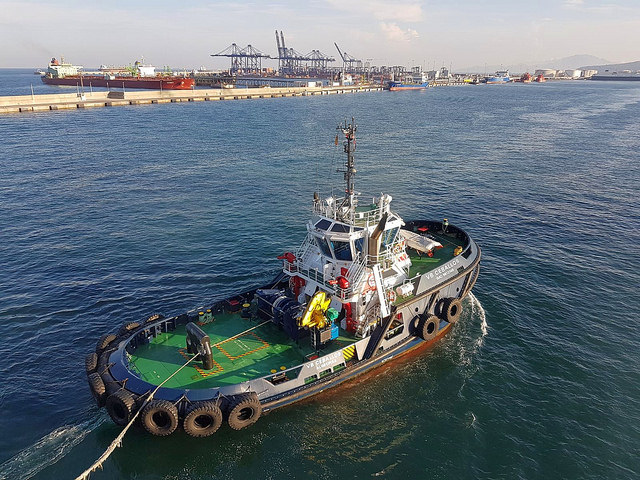bulk carrier: (386, 67, 437, 93)
tanker: (40, 59, 191, 92)
tug_boat: (92, 119, 500, 437)
